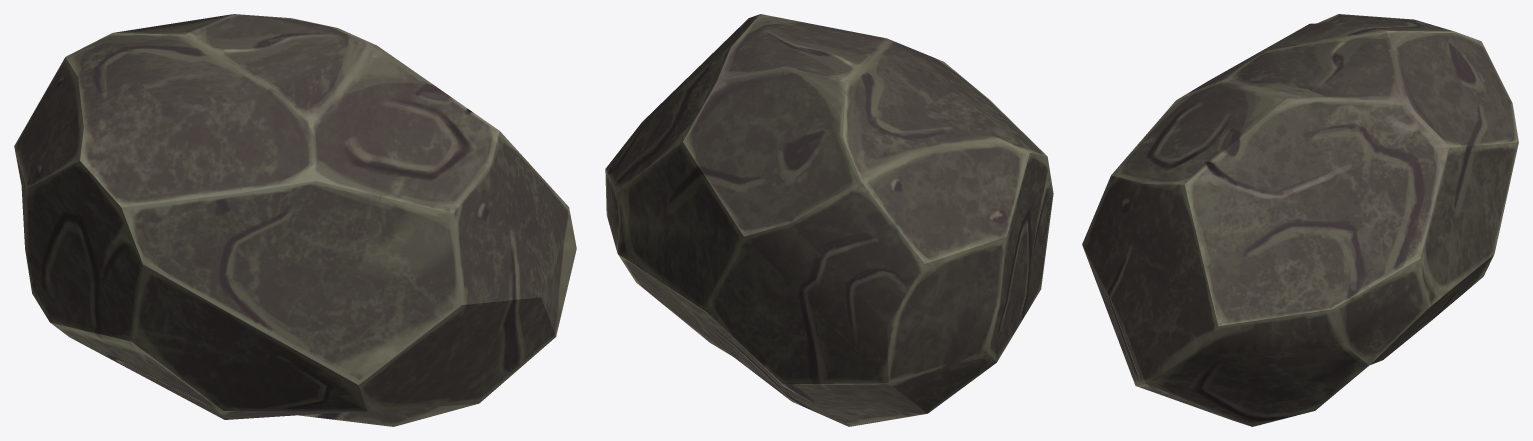
The model's file is stone_001.glb.
3 views of the same model, side by side, from view 1: azimuth 30°, elevation 25°; view 2: azimuth 150°, elevation 25°; view 3: azimuth 270°, elevation 25° (orthographic). The views are drawn at different scales.
Visible parts, largest first — view 1: Plane; view 2: Plane; view 3: Plane.
Part boxes in pixels (x1,y1,x2,y2): Plane: (14, 14, 576, 426); Plane: (605, 14, 1053, 426); Plane: (1082, 14, 1518, 426).
Bounding box in the file's own units: 2.96 × 2.29 × 2.69.
1 material, 1 textured.
